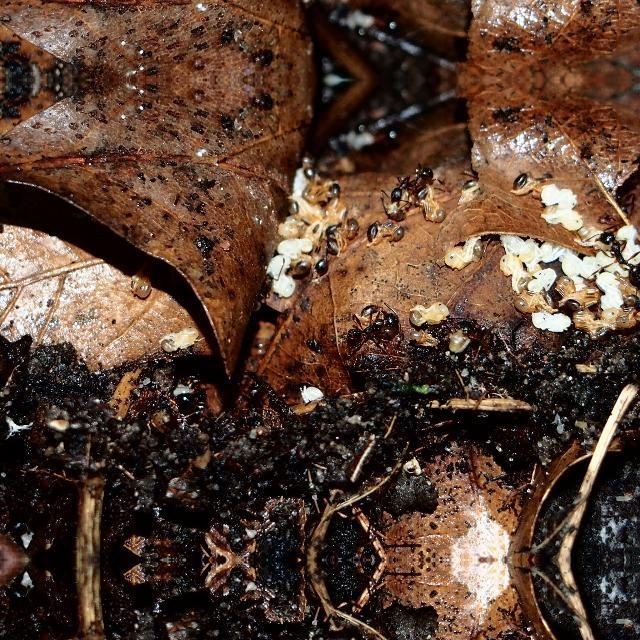Apheanogaster: (583, 223, 637, 289), (305, 217, 357, 277), (339, 307, 405, 349), (383, 163, 439, 203)
